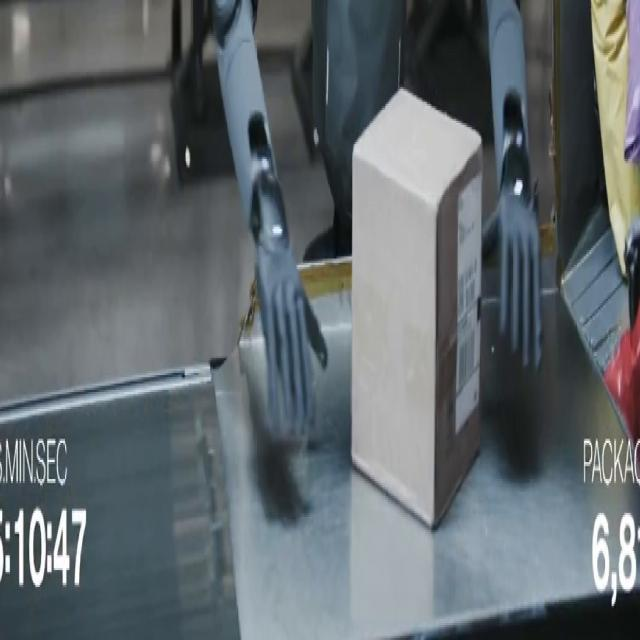package: (352, 90, 482, 527), (591, 0, 639, 275), (605, 314, 639, 442), (625, 3, 639, 165)
